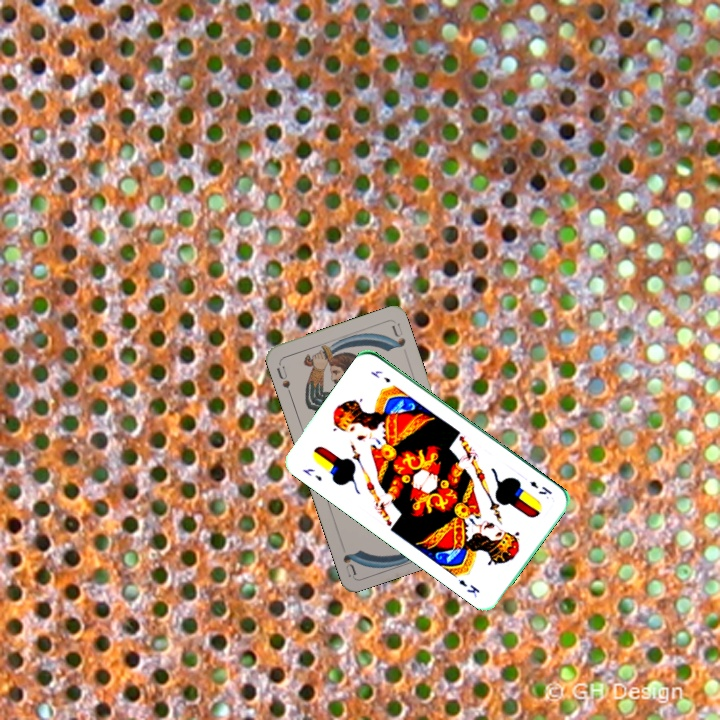EK: (526, 477, 555, 497), (298, 464, 325, 484)
SU: (272, 359, 294, 398)
